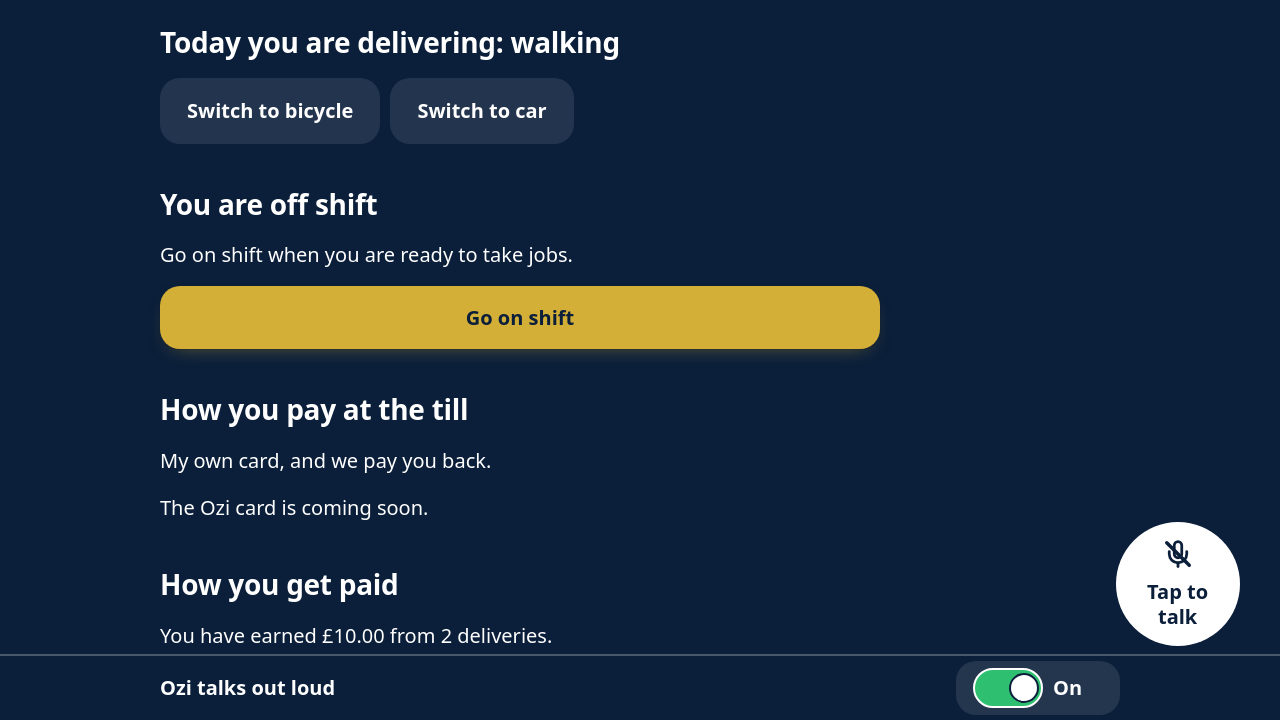
it: a Runner page › labels a split job and what it pays before the Runner says yes (ruling 60)
(page scrolled)
Click the button "Go on shift" at (520, 318), box [160,286,880,349]
(page scrolled)
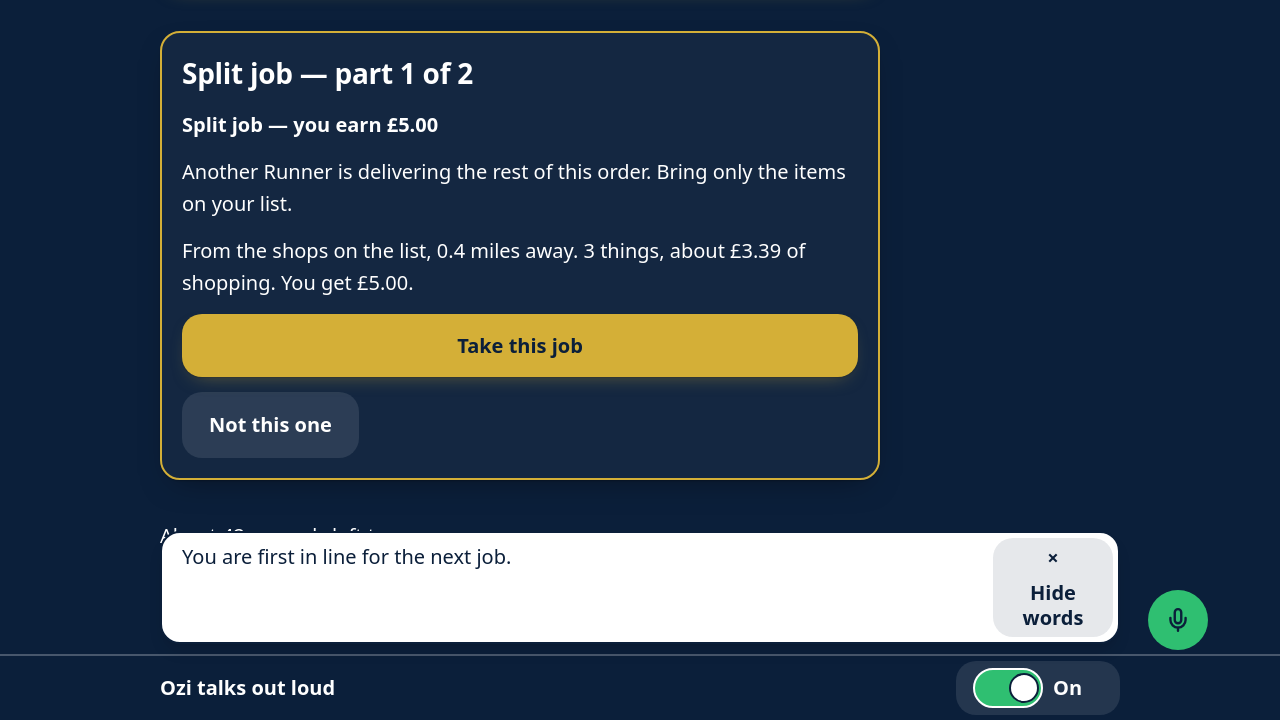
Check: the message that starts with "Split job — part 1 of 2" is shown, box [182,54,473,92]
Check: the message that starts with "Split job — part 1 of 2" shows "Split job — you earn £5.00", box [182,111,438,138]
Check: the message that starts with "Split job — part 1 of 2" shows "Another Runner is delivering the rest of this order.", box [182,158,846,217]
